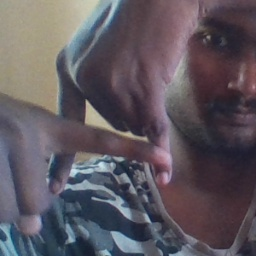H: (41, 63, 182, 199)
